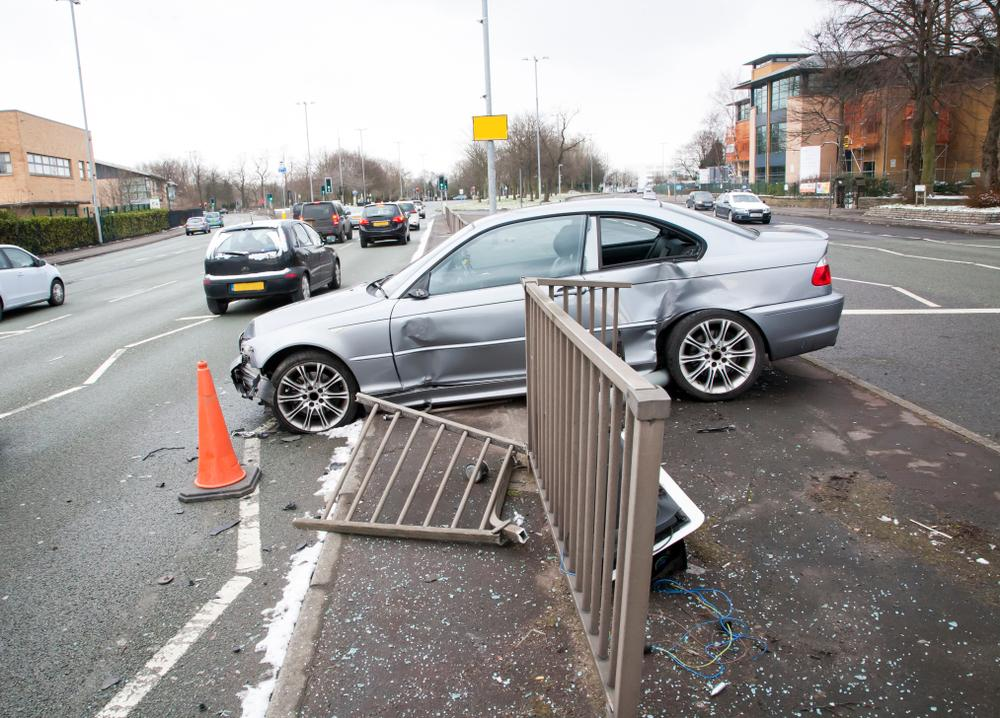dent: (624, 263, 719, 369), (396, 317, 480, 386)
